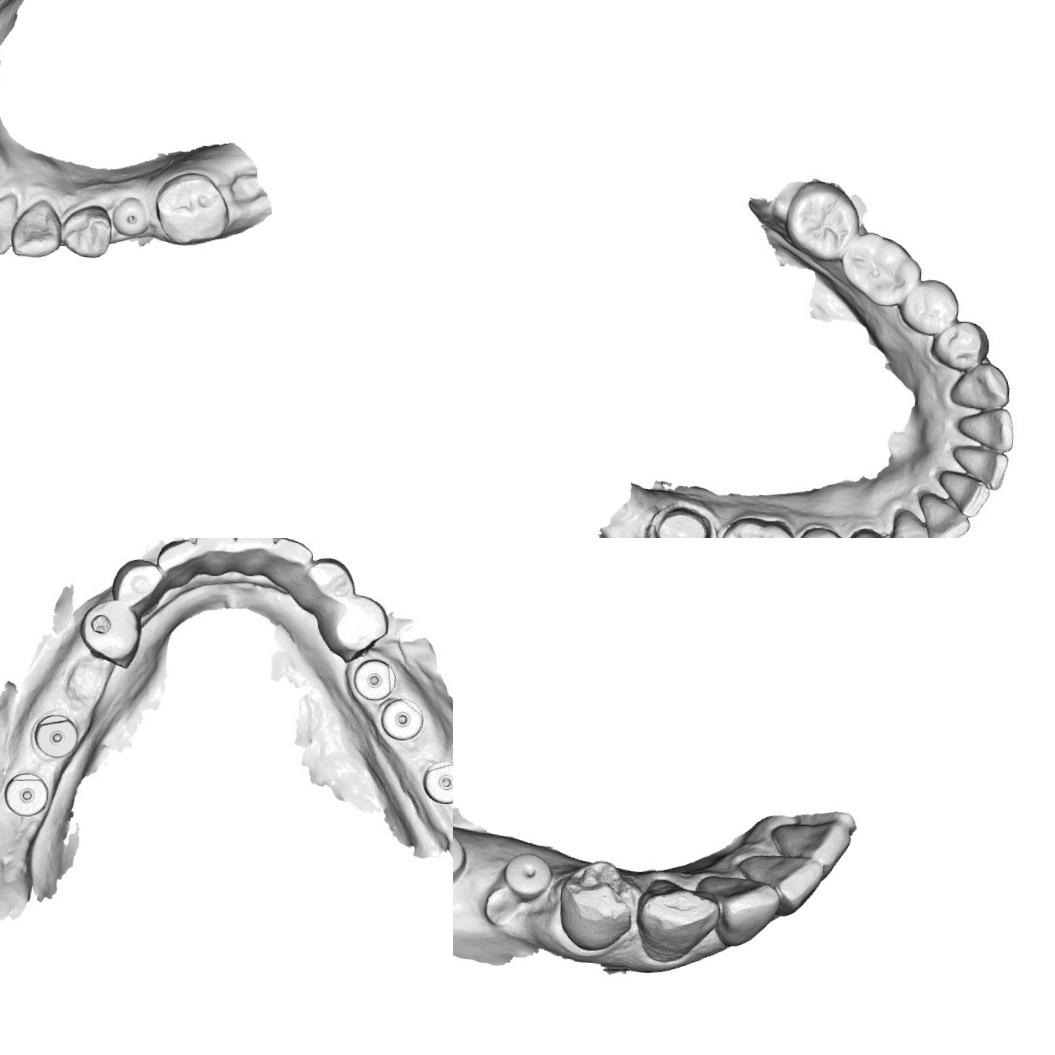canine: (632, 871, 722, 966), (7, 195, 64, 262), (947, 359, 1011, 418), (299, 554, 359, 614), (106, 555, 163, 616), (887, 511, 942, 538)
crown: (646, 498, 715, 538)
implant: (30, 708, 82, 762), (373, 693, 428, 744), (0, 768, 51, 820), (348, 655, 399, 702), (504, 853, 550, 900), (109, 194, 151, 239), (419, 757, 453, 807), (453, 824, 472, 888)
incisor: (704, 867, 783, 948), (748, 847, 818, 910), (779, 814, 849, 871), (958, 405, 1014, 458), (950, 442, 1007, 488), (940, 472, 989, 521), (918, 494, 971, 538), (267, 538, 316, 577), (156, 538, 197, 577), (230, 538, 276, 568), (0, 189, 19, 256), (194, 538, 234, 564)
molar: (149, 168, 234, 256), (838, 233, 922, 306), (787, 179, 862, 254), (712, 510, 801, 538)
premolar: (557, 860, 640, 951), (317, 587, 390, 664), (76, 594, 142, 666), (928, 316, 993, 374), (57, 200, 114, 260), (900, 282, 961, 332), (794, 524, 844, 538)
